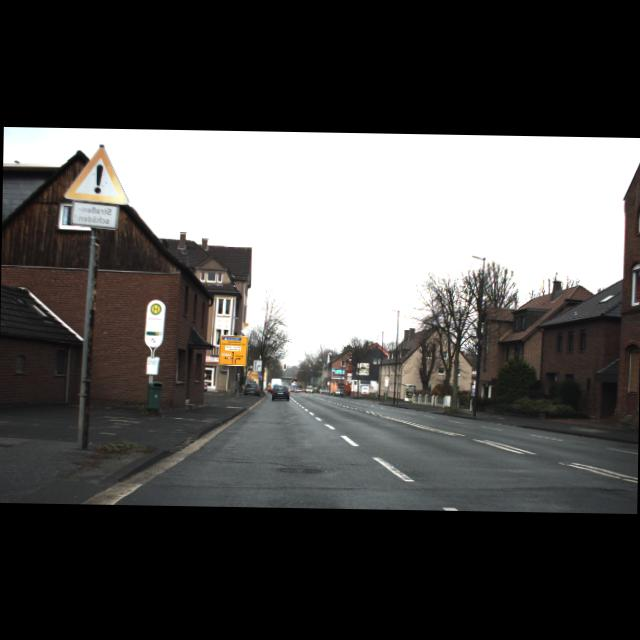danger: (64, 146, 131, 204)
